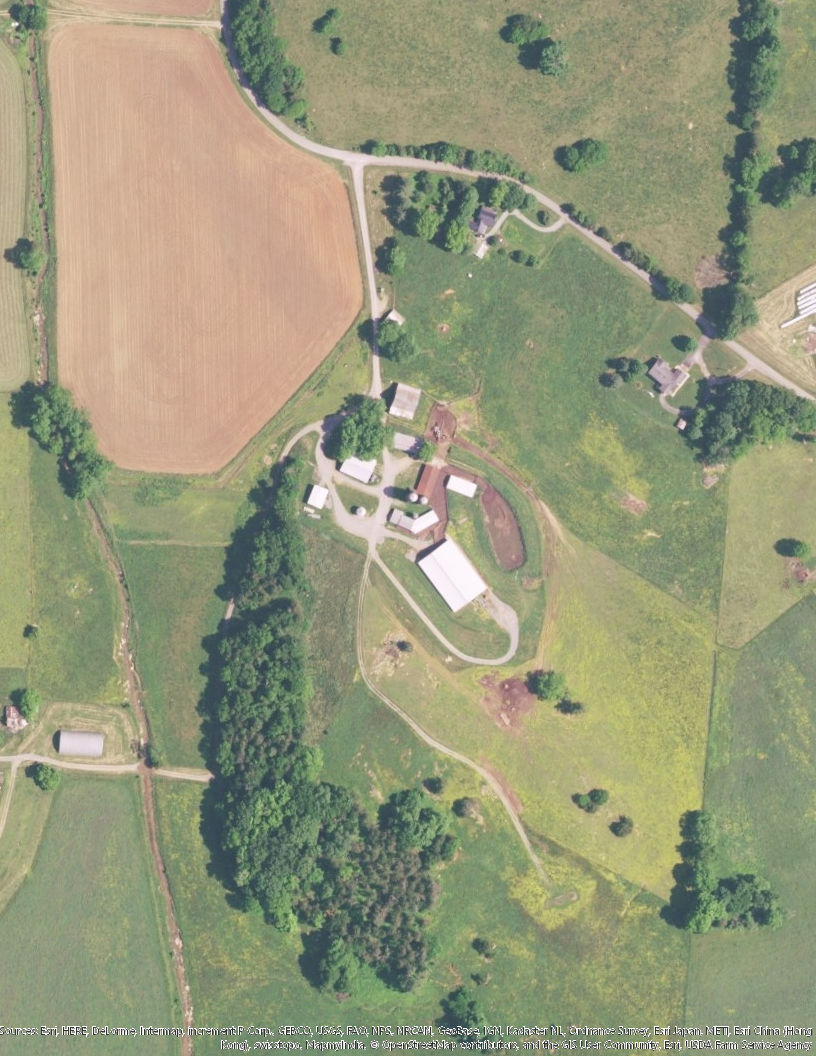cafo: (407, 534, 495, 619)
